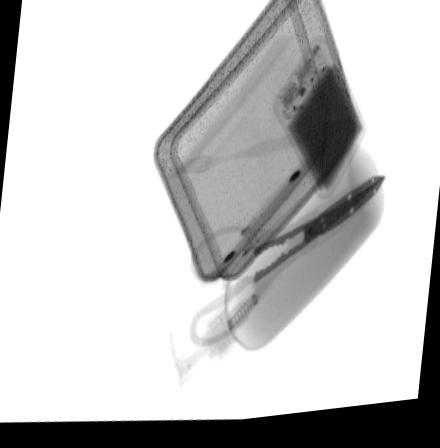Powerbank: (273, 42, 364, 203)
Scissors: (187, 178, 389, 352)
